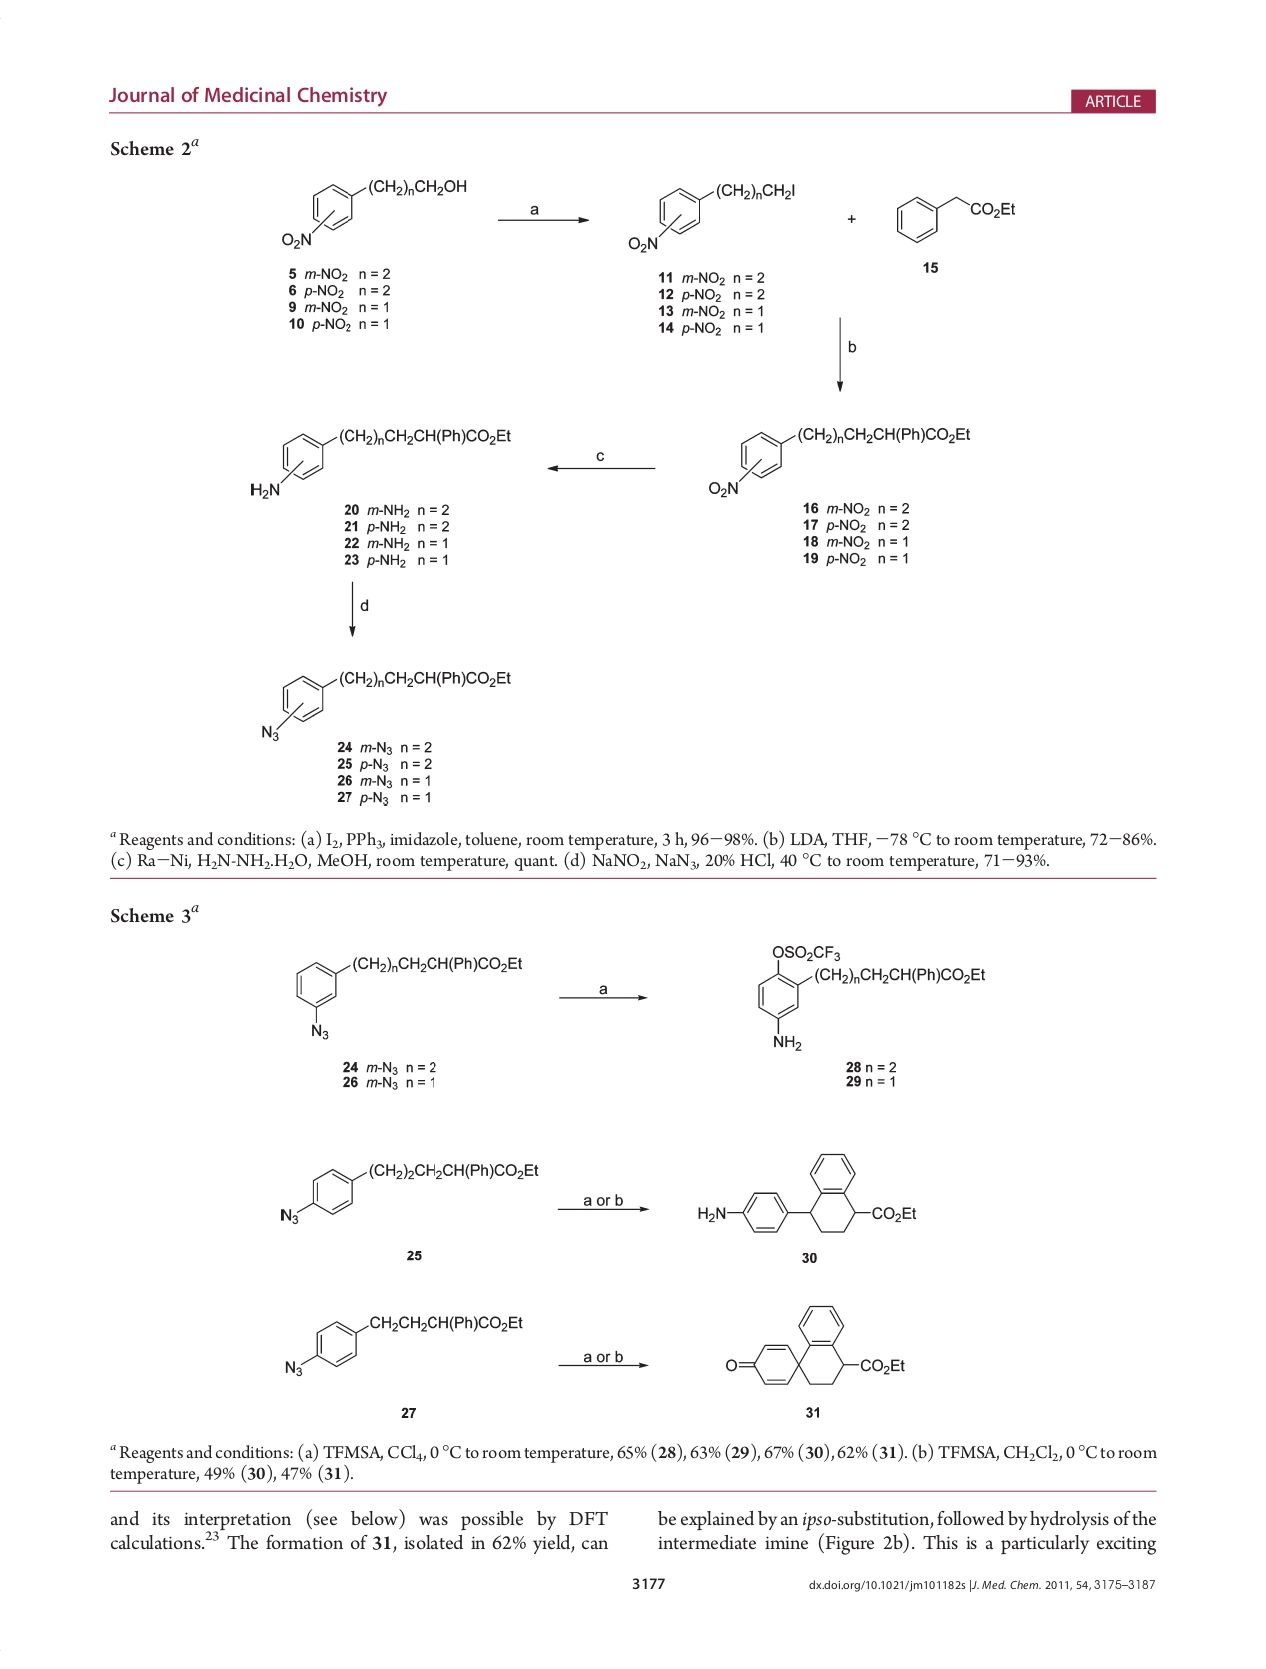exist_molecular: (753, 938, 987, 1055), (696, 1146, 920, 1243), (290, 950, 523, 1043), (257, 660, 515, 743), (702, 424, 975, 503), (247, 424, 517, 503), (281, 1299, 528, 1378), (275, 1154, 539, 1227), (722, 1297, 907, 1390), (281, 173, 479, 247), (626, 176, 797, 255), (891, 186, 1015, 247)
